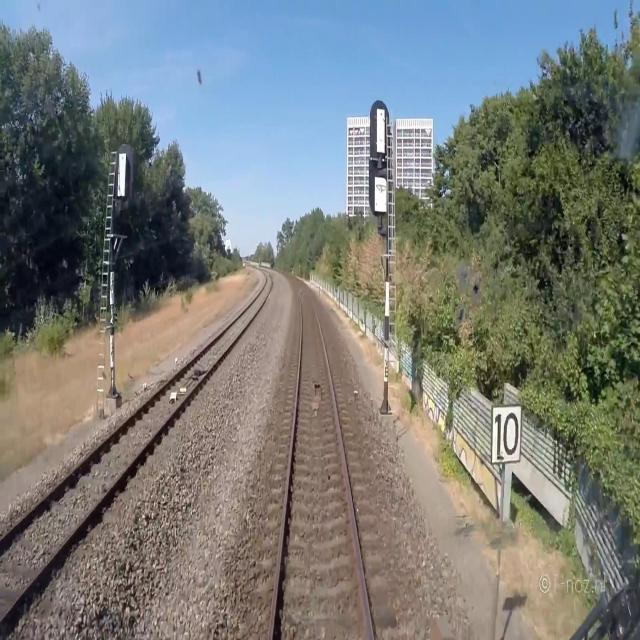rail-track: (0, 272, 271, 617), (273, 287, 369, 639)
